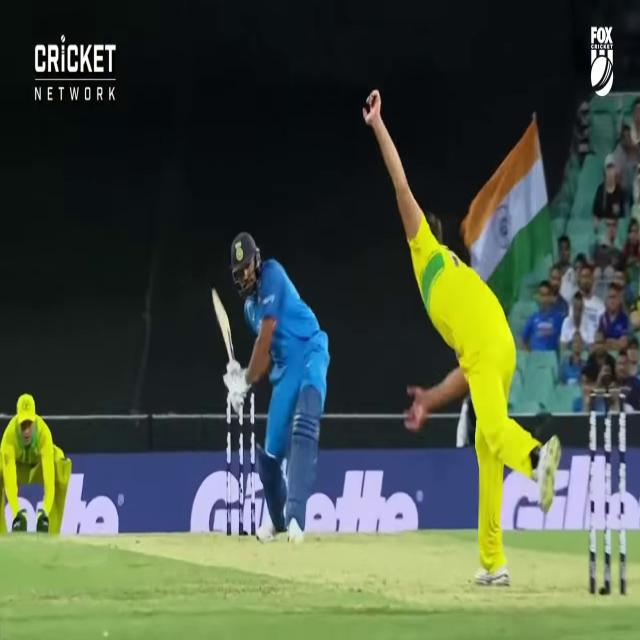stump: (227, 387, 256, 536)
